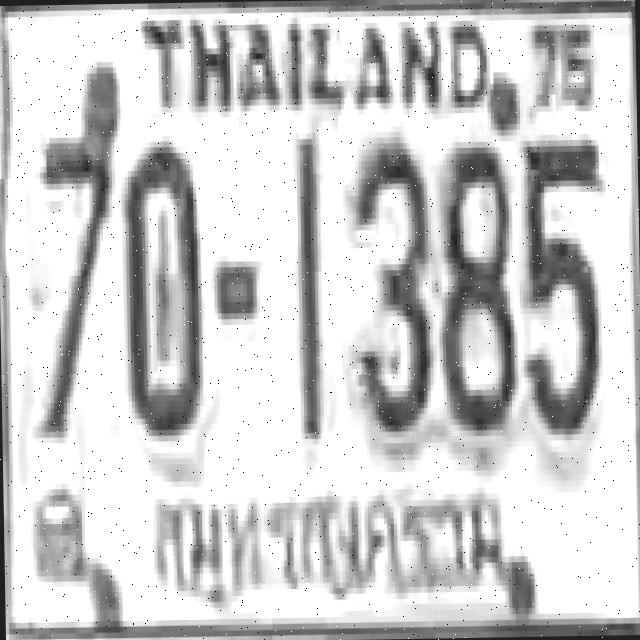0: (124, 134, 206, 430)
1: (291, 130, 322, 436)
3: (348, 134, 431, 435)
5: (520, 131, 603, 438)
7: (31, 76, 126, 434)
8: (436, 138, 516, 434)
SamutSongkhram: (136, 467, 514, 614)
